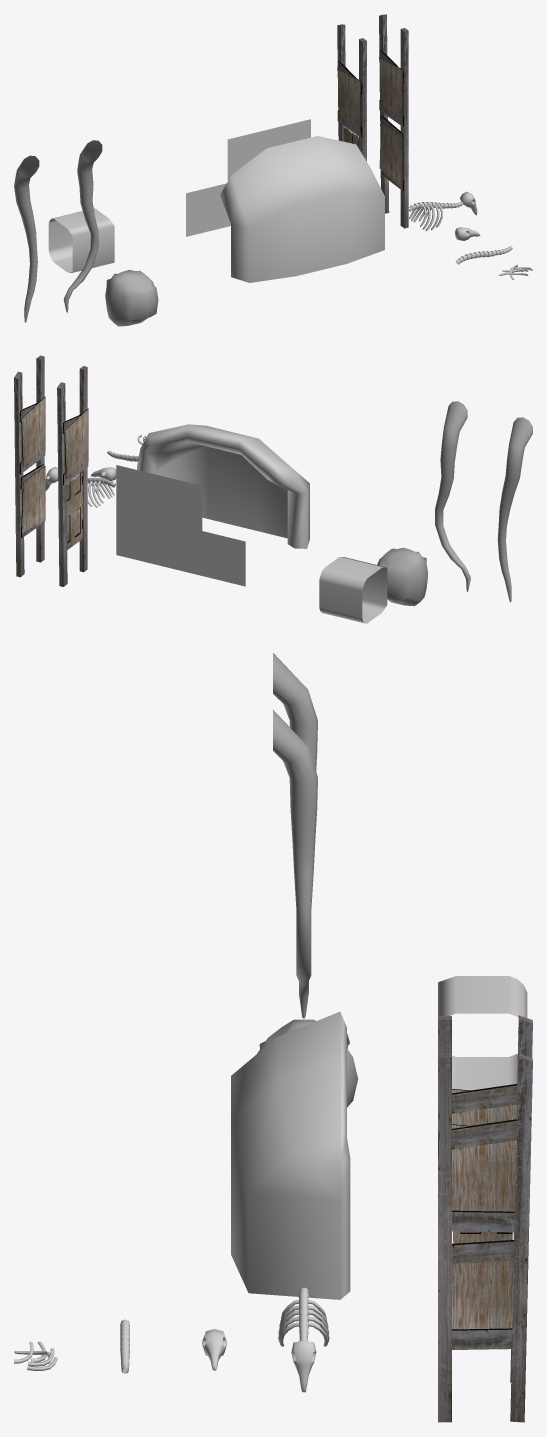
The model's file is Extras.fbx.
3 renders of one model, top to bottom at view 1: azimuth 30°, elevation 25°; view 2: azimuth 150°, elevation 25°; view 3: azimuth 270°, elevation 25°, orthographic. The views are drawn at different scales.
Parts seen in each view (by area): view 1: kiwi_hut_mesh, wall_barricade, flat, door_frame_mesh, stone_round, build_plane2x2, root_twist, root_straight, build_plane, bones_ribcage; view 2: kiwi_hut_mesh, build_plane2x2, wall_barricade, door_frame_mesh, flat, root_twist, root_straight, stone_round, build_plane, door_mesh, bones_ribcage; view 3: kiwi_hut_mesh, wall_barricade, root_twist, flat, door_frame_mesh, bones_ribcage, root_straight, stone_round.
Part boxes in pixels (x1=…): kiwi_hut_mesh: x1=220, y1=136, x2=384, y2=282; wall_barricade: x1=379, y1=14, x2=408, y2=228; flat: x1=48, y1=208, x2=114, y2=272; door_frame_mesh: x1=337, y1=24, x2=366, y2=161; stone_round: x1=105, y1=270, x2=158, y2=326; build_plane2x2: x1=227, y1=119, x2=310, y2=226; root_twist: x1=63, y1=140, x2=102, y2=312; root_straight: x1=14, y1=155, x2=39, y2=322; build_plane: x1=186, y1=183, x2=227, y2=236; bones_ribcage: x1=407, y1=191, x2=477, y2=230; kiwi_hut_mesh: x1=137, y1=424, x2=309, y2=548; build_plane2x2: x1=116, y1=465, x2=202, y2=575; wall_barricade: x1=14, y1=355, x2=45, y2=577; door_frame_mesh: x1=57, y1=366, x2=88, y2=586; flat: x1=319, y1=557, x2=387, y2=623; root_twist: x1=435, y1=401, x2=470, y2=591; root_straight: x1=497, y1=417, x2=532, y2=602; stone_round: x1=377, y1=547, x2=427, y2=606; build_plane: x1=202, y1=531, x2=245, y2=586; door_mesh: x1=66, y1=473, x2=83, y2=549; bones_ribcage: x1=45, y1=467, x2=115, y2=507; kiwi_hut_mesh: x1=231, y1=1011, x2=350, y2=1299; wall_barricade: x1=438, y1=1053, x2=532, y2=1422; root_twist: x1=273, y1=710, x2=317, y2=1018; flat: x1=438, y1=976, x2=527, y2=1090; door_frame_mesh: x1=438, y1=1015, x2=532, y2=1382; bones_ribcage: x1=278, y1=1287, x2=329, y2=1392; root_straight: x1=273, y1=653, x2=317, y2=771; stone_round: x1=257, y1=1019, x2=357, y2=1107.
Bounding box in the file's own units: 11.14 × 4.76 × 5.81.
